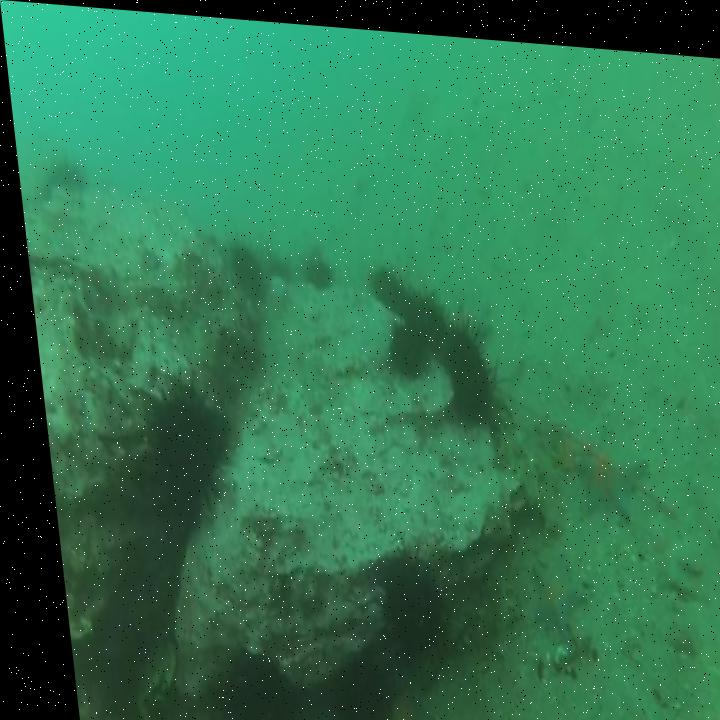echinus: (140, 387, 216, 506), (369, 552, 428, 642), (434, 328, 491, 413), (214, 650, 276, 720), (313, 651, 375, 720), (376, 312, 419, 373), (400, 292, 446, 347), (225, 237, 262, 293), (364, 264, 408, 306), (39, 162, 82, 196), (298, 252, 325, 288)
holothurian: (447, 562, 502, 651), (488, 410, 530, 503)
scallop: (536, 630, 561, 660)
starfish: (569, 441, 634, 511), (518, 553, 574, 627)
